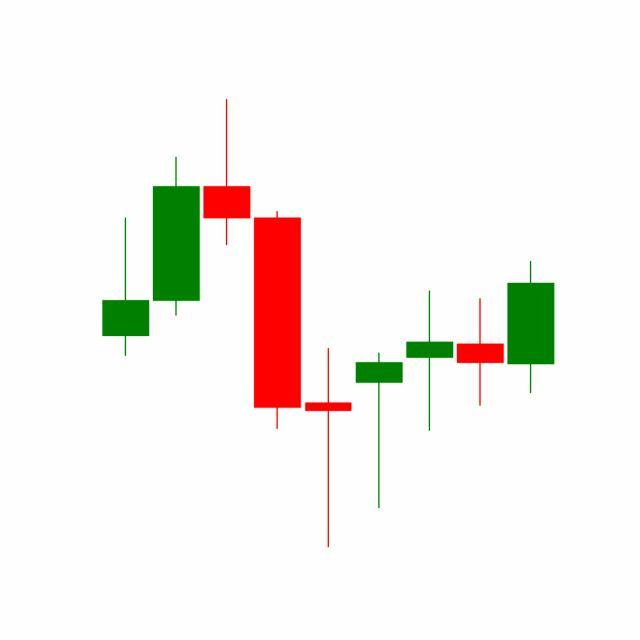Hikkake Pattern: (302, 257, 555, 548)
